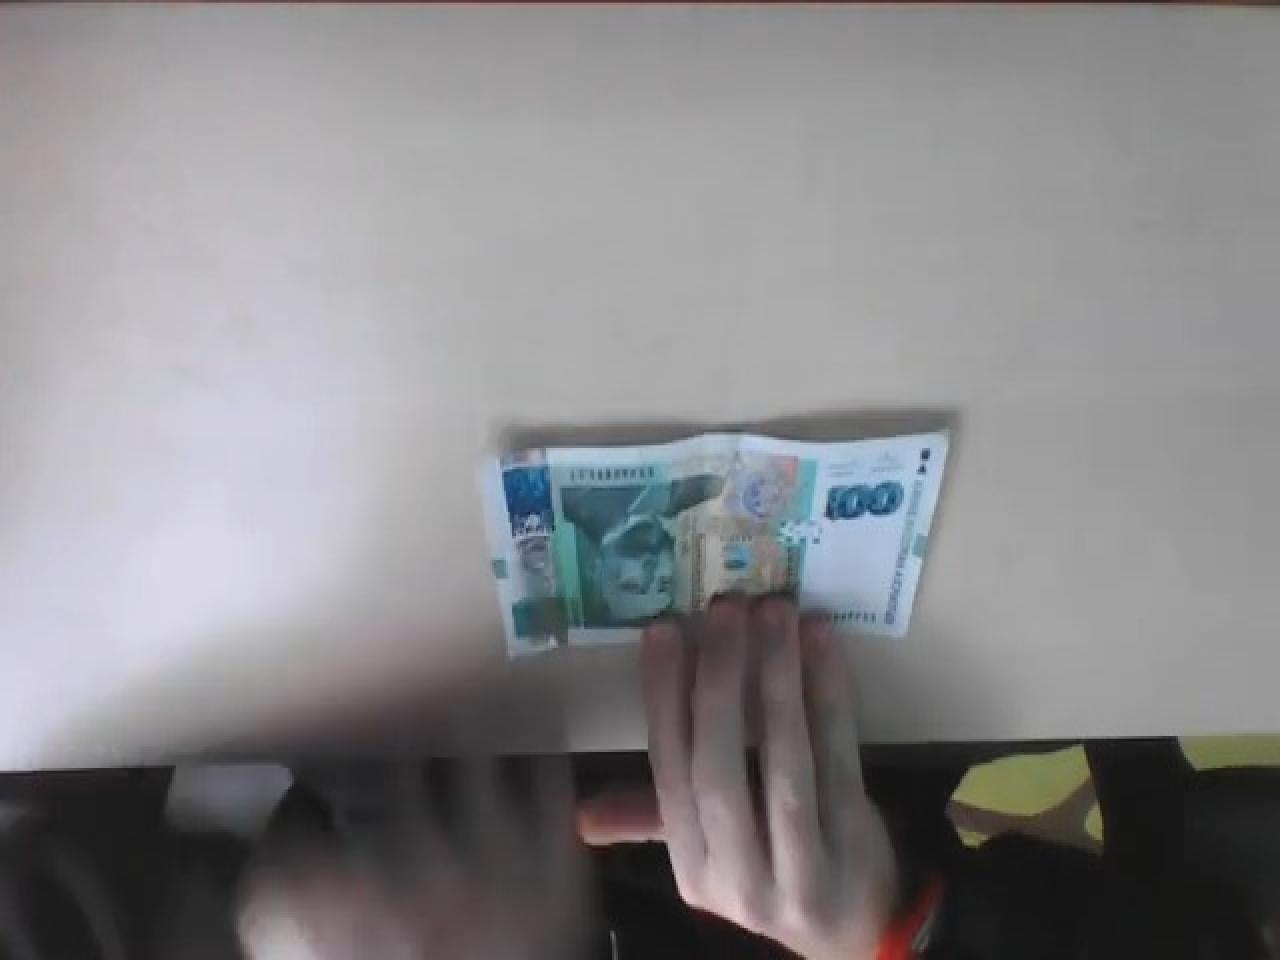100leva: (480, 424, 954, 656)
